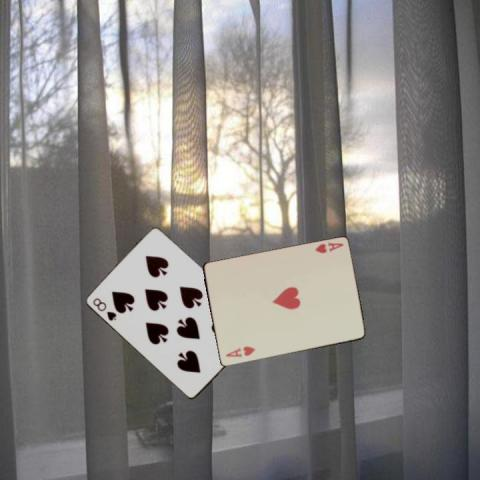8s: (90, 295, 118, 322)
Ah: (222, 344, 256, 360), (312, 240, 345, 255)
